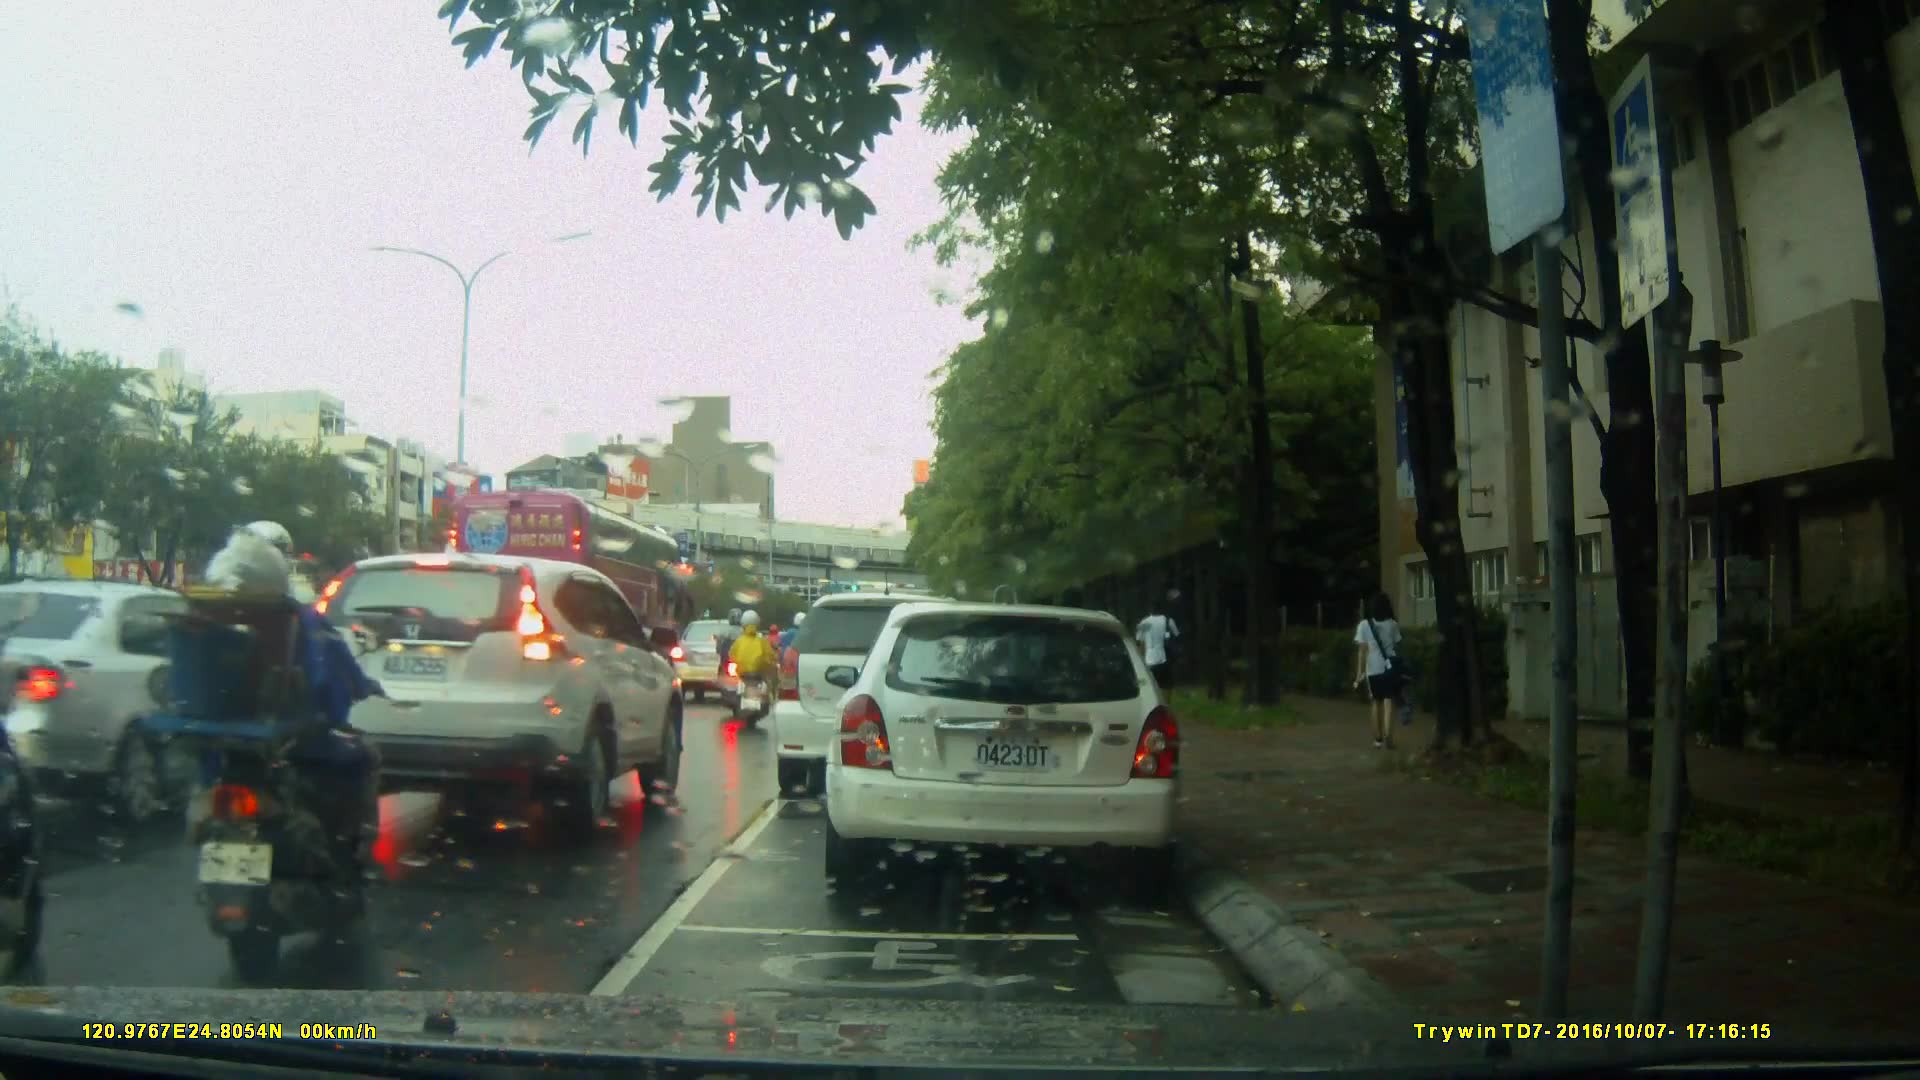pedestrian: (1343, 582, 1421, 768), (1135, 594, 1182, 715)
rider: (154, 519, 393, 979), (730, 609, 776, 731), (716, 602, 764, 715), (779, 605, 815, 707)
vehicle: (300, 551, 690, 833), (835, 594, 1194, 898), (13, 577, 377, 810), (776, 590, 1026, 784), (443, 490, 705, 667), (669, 617, 769, 704)
